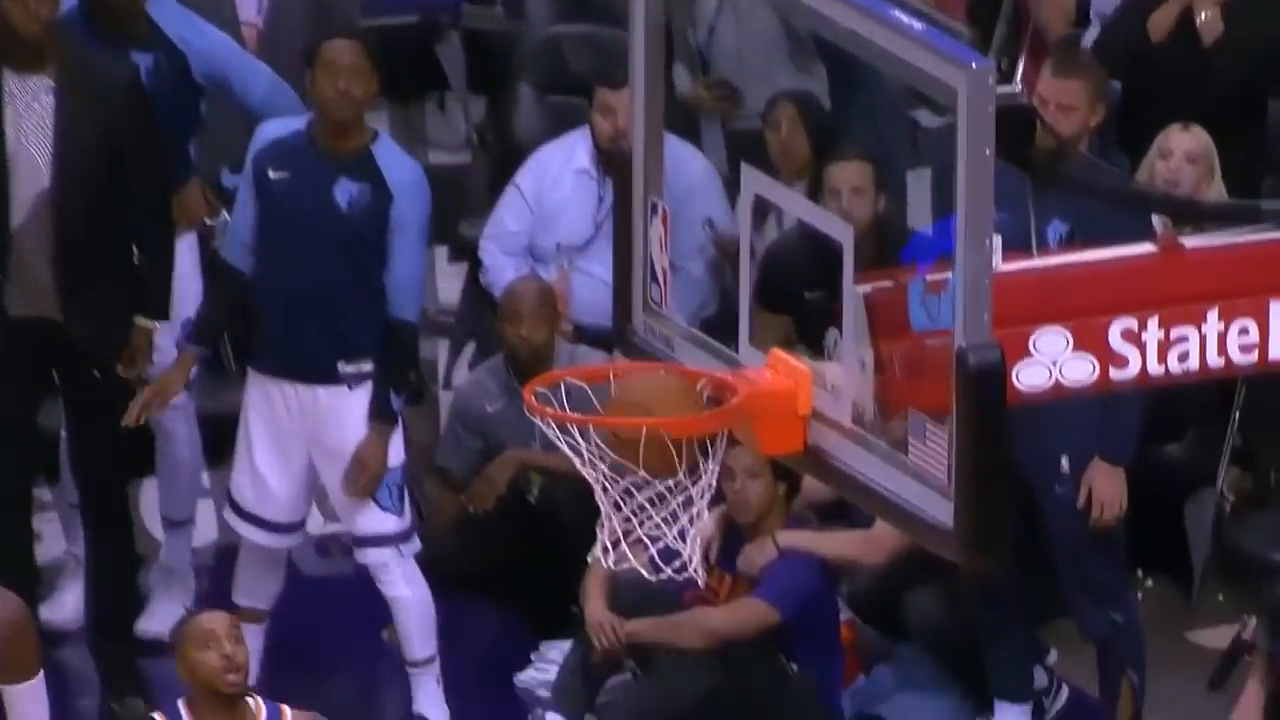ball: (602, 376, 707, 474)
